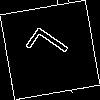L: (25, 25, 78, 74)
